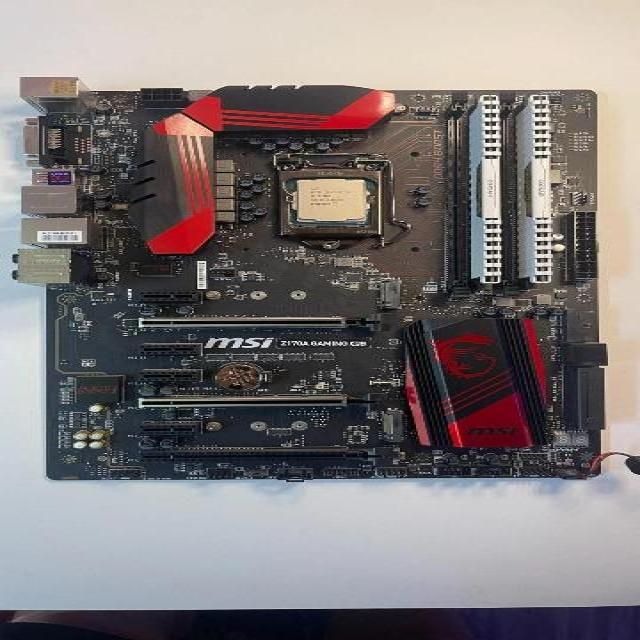CPU: (292, 179, 369, 225)
RAM: (514, 93, 554, 284), (468, 94, 503, 284)
